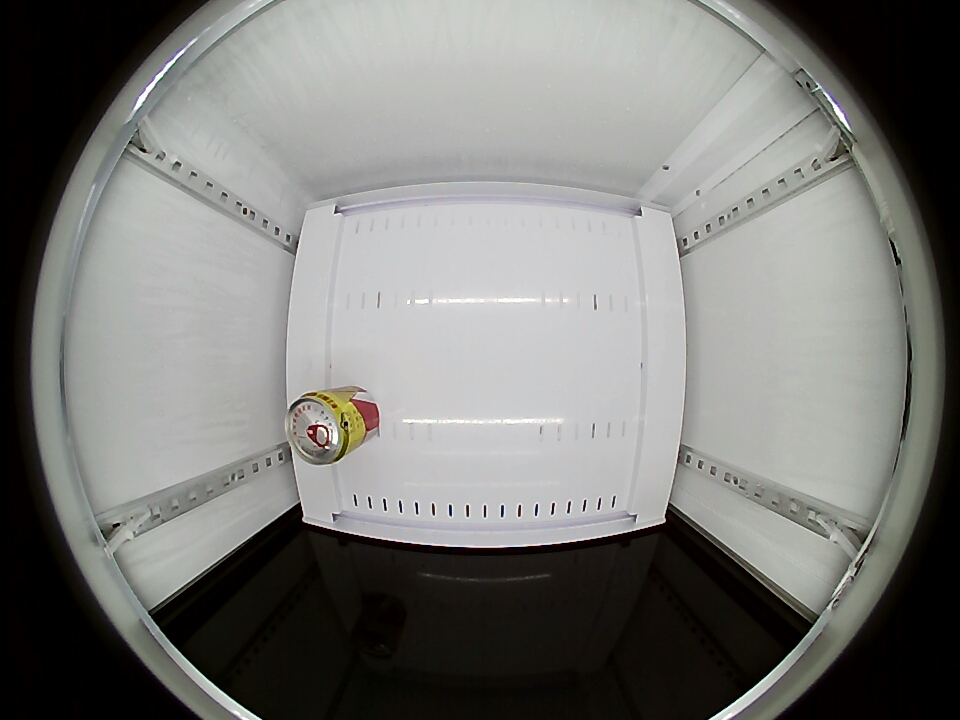dongpeng: (287, 390, 358, 466)
